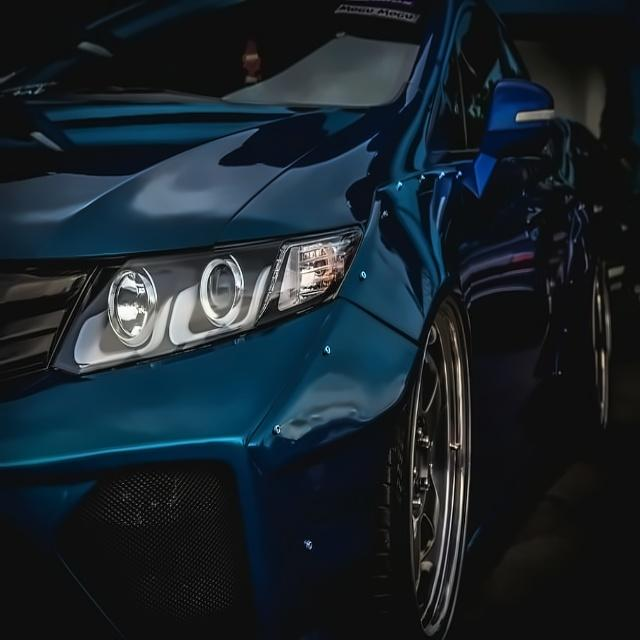Car hood: (5, 89, 398, 259)
Front bumper: (0, 301, 419, 640)
Headlight - -L-: (47, 220, 368, 384)
Passenger-s door - -F-L-: (427, 0, 590, 543)
Side mirror - -L-: (462, 77, 559, 148)
